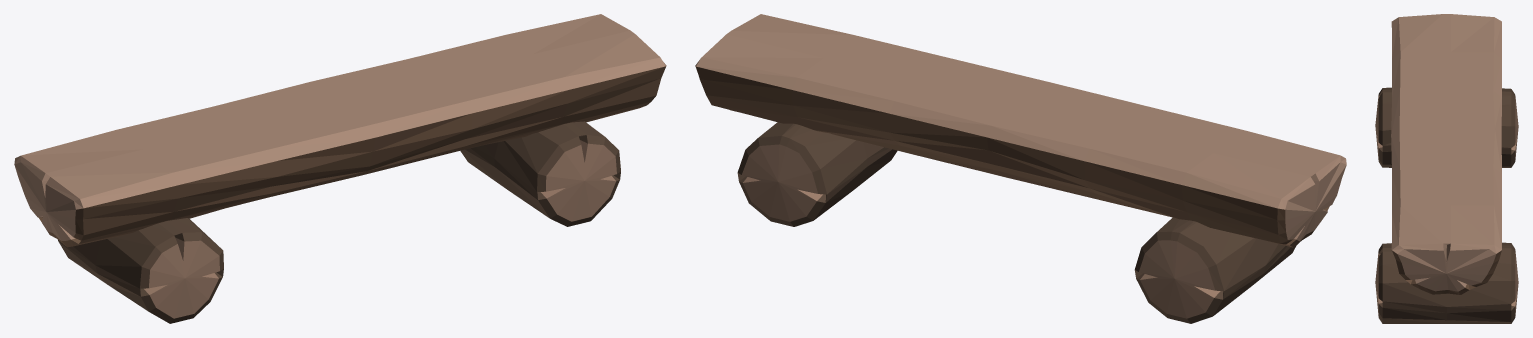
File: split-log-bench-289780.glb
3 views of the same model, side by side, from view 1: azimuth 30°, elevation 25°; view 2: azimuth 150°, elevation 25°; view 3: azimuth 270°, elevation 25° (orthographic). The views are drawn at different scales.
Visible parts, largest first — view 1: split-log-bench-body; view 2: split-log-bench-body; view 3: split-log-bench-body.
Part boxes in pixels (left/top/right/bottom): split-log-bench-body: left=14, top=14, right=666, bottom=323; split-log-bench-body: left=695, top=14, right=1346, bottom=323; split-log-bench-body: left=1375, top=14, right=1518, bottom=323.
Size of the model in its own units: 2 by 0.45 by 0.52.
